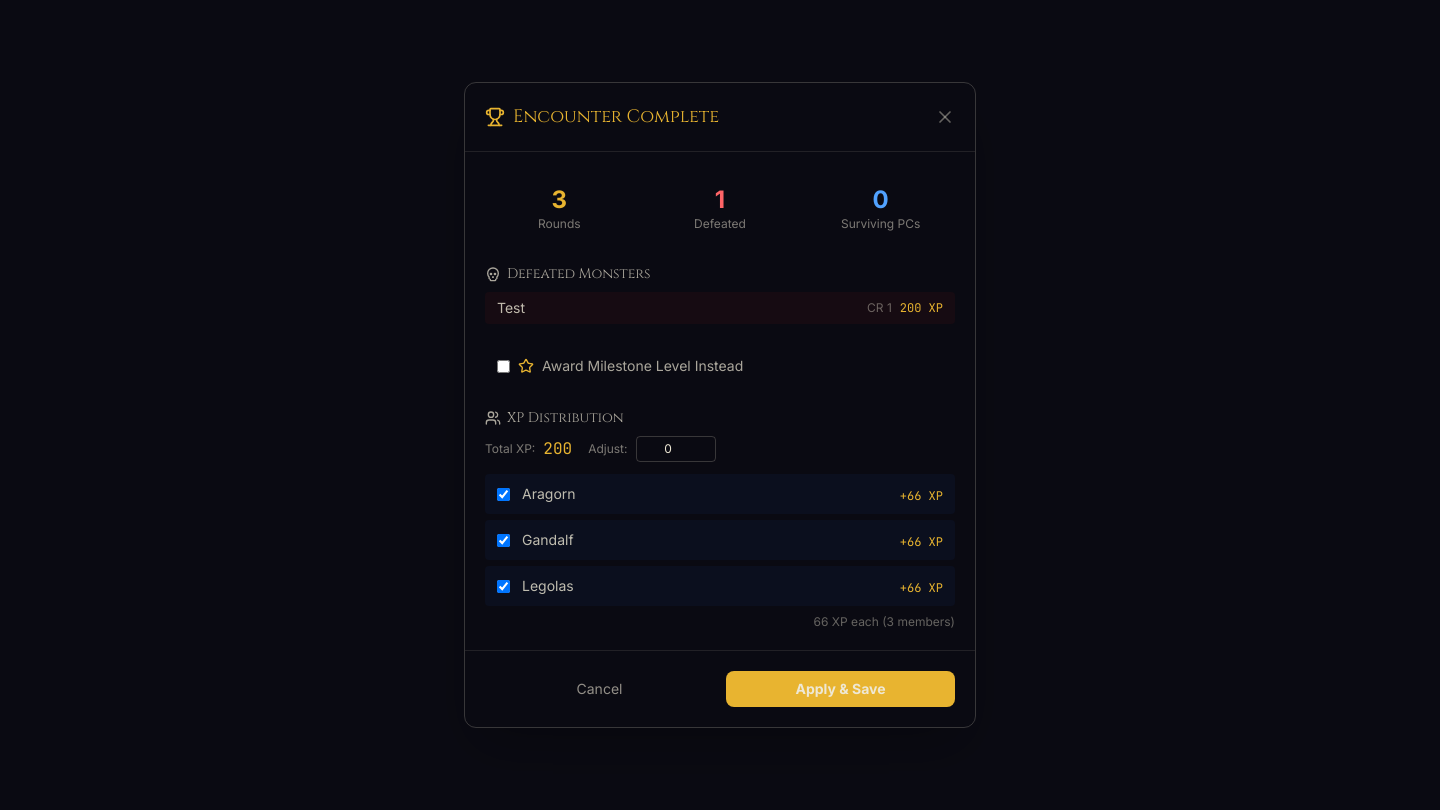
Test: EndEncounterModal › should hide XP distribution when milestone is toggled
This screenshot has width=1440, height=810.
Click the text "Award Milestone Level Instead".
click(620, 366)  # box [497,357,743,374]
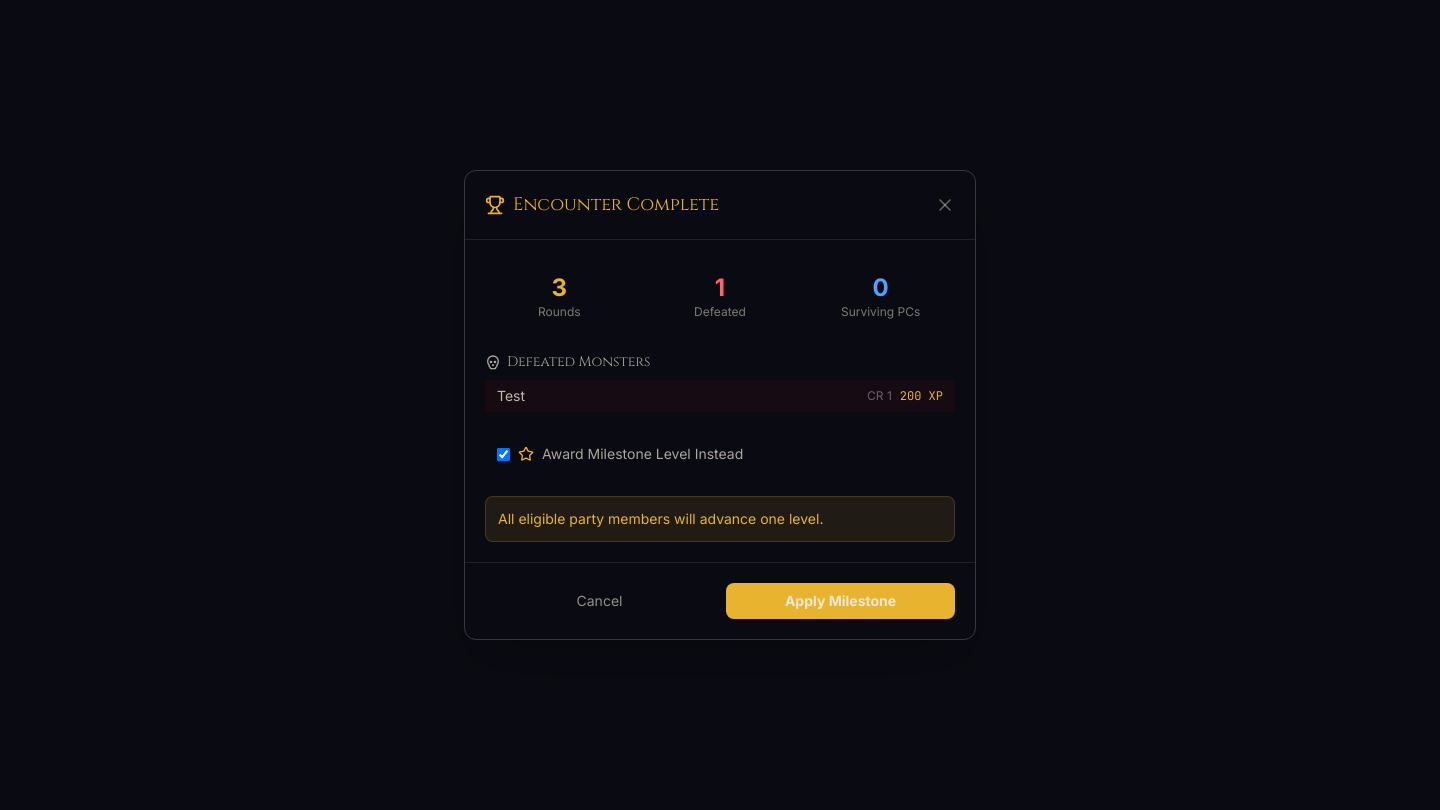
Expected: the heading "XP Distribution" is gone
